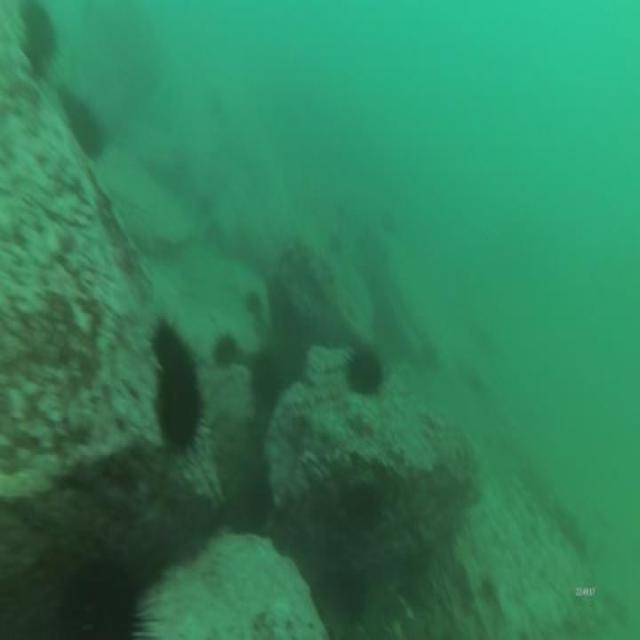echinus: (56, 548, 141, 640), (154, 364, 210, 455), (146, 310, 194, 376), (340, 336, 385, 402), (64, 93, 107, 161), (15, 0, 58, 66), (334, 561, 370, 634), (342, 472, 382, 532), (250, 340, 284, 409), (207, 329, 244, 373), (241, 283, 263, 319), (323, 226, 343, 261)
